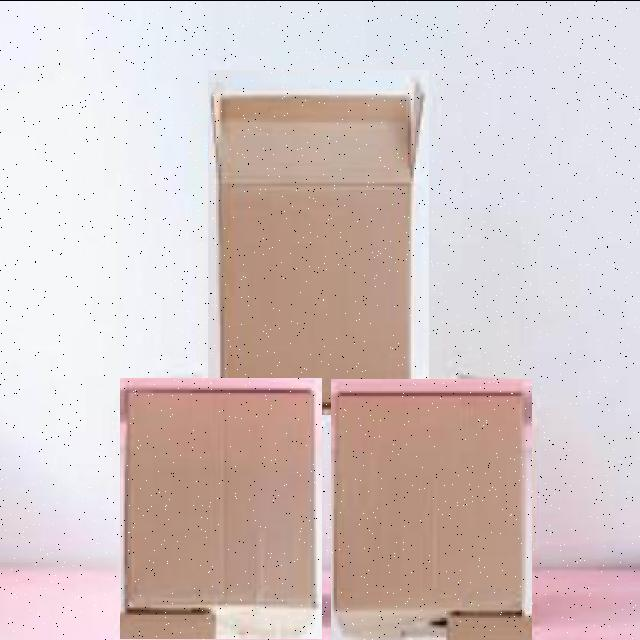defect: (208, 69, 429, 414)
normal: (120, 377, 322, 638), (331, 378, 532, 640)
